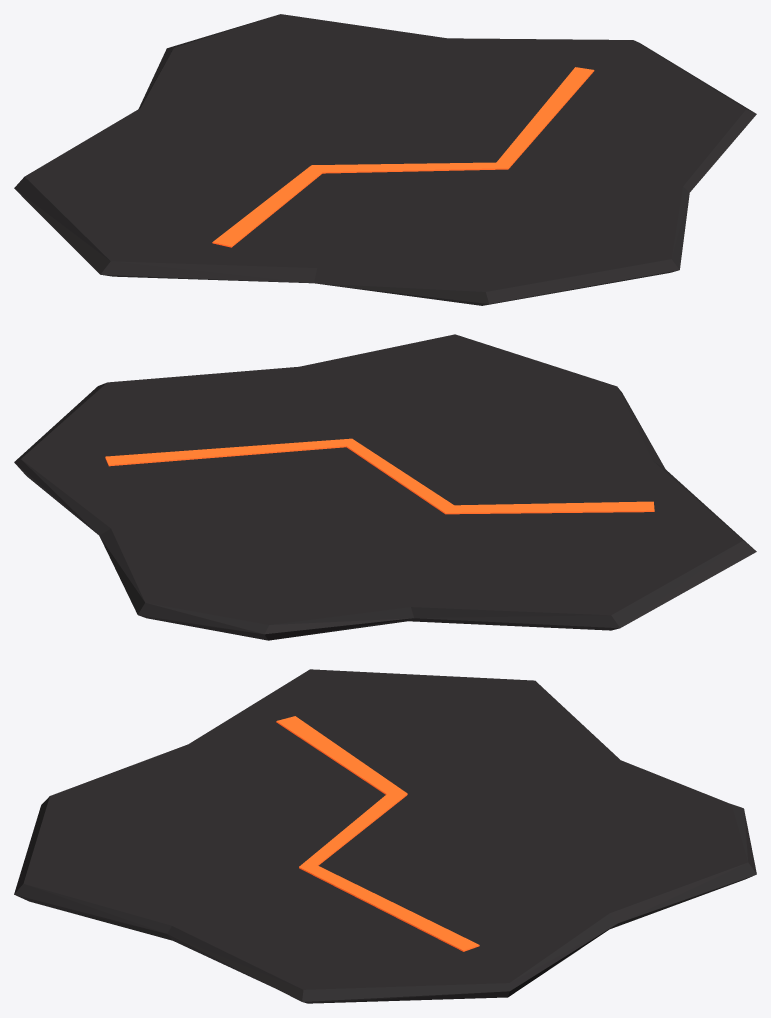
The model's file is VL_CrustPlate.fbx.
The picture shows the model from 3 angles, top to bottom: view 1: azimuth 30°, elevation 25°; view 2: azimuth 150°, elevation 25°; view 3: azimuth 270°, elevation 25°; orthographic projection. The views are drawn at different scales.
Parts seen in each view (by area): view 1: VL_CrustPlate_Crust, VL_CrustPlate_Neon_Magma; view 2: VL_CrustPlate_Crust, VL_CrustPlate_Neon_Magma; view 3: VL_CrustPlate_Crust, VL_CrustPlate_Neon_Magma.
Boxes of the visible parts, left/top/right/bottom form: VL_CrustPlate_Crust: left=14, top=14, right=756, bottom=305; VL_CrustPlate_Neon_Magma: left=212, top=67, right=594, bottom=247; VL_CrustPlate_Crust: left=14, top=334, right=756, bottom=640; VL_CrustPlate_Neon_Magma: left=105, top=438, right=654, bottom=514; VL_CrustPlate_Crust: left=14, top=669, right=756, bottom=1003; VL_CrustPlate_Neon_Magma: left=276, top=716, right=479, bottom=951.
Size of the model in its own units: 21.13 by 0.54 by 20.
